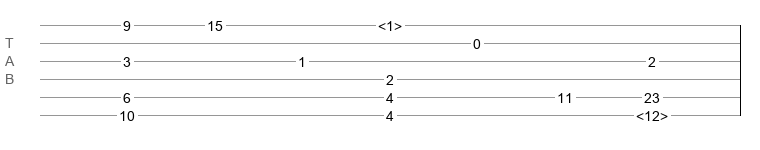0: (473, 36, 481, 46)
1: (298, 54, 306, 64)
10: (119, 108, 135, 118)
11: (557, 90, 573, 100)
15: (207, 18, 223, 28)
2: (386, 72, 394, 82), (648, 54, 656, 64)
23: (644, 90, 660, 100)
3: (123, 54, 131, 64)
4: (386, 108, 394, 118), (386, 90, 394, 100)
6: (123, 90, 131, 100)
9: (123, 18, 131, 28)
harmonic: (636, 108, 668, 118), (378, 18, 402, 28)
